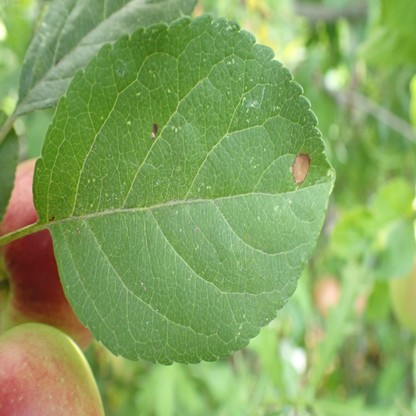frogeye_leaf_spot: (293, 152, 310, 187)
